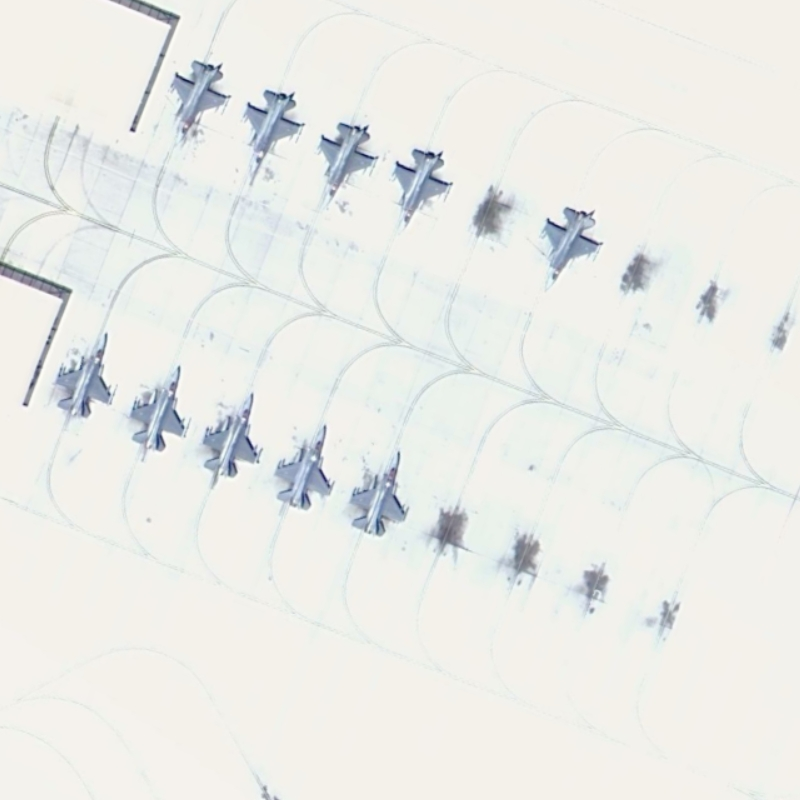A5: (193, 380, 265, 482), (49, 323, 120, 426), (535, 197, 604, 300), (163, 55, 233, 156), (122, 354, 192, 455), (265, 417, 336, 514), (240, 81, 305, 184), (313, 115, 380, 214), (387, 137, 454, 235), (346, 444, 411, 541)
